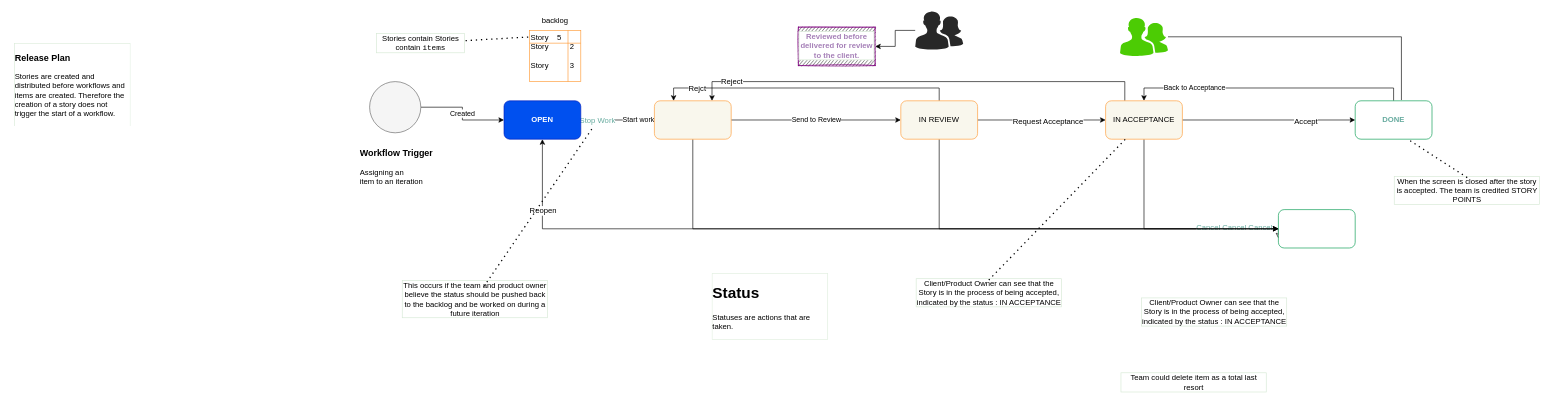
Image size: 1551x406. Some labels were removed from this diagram. Here are the shapes that lost their labels. From the top down, the centre of each, then its label:
At point (1144, 36): "Client/Product Owner Reviews".
At point (692, 119): "IN PROGRESS".
At point (1316, 228): "CANCELED".
